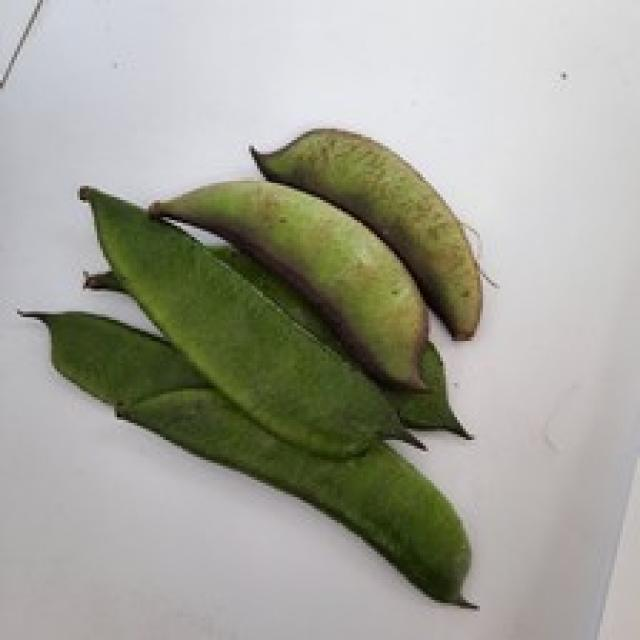Bean: (77, 183, 426, 457), (245, 123, 486, 340)
